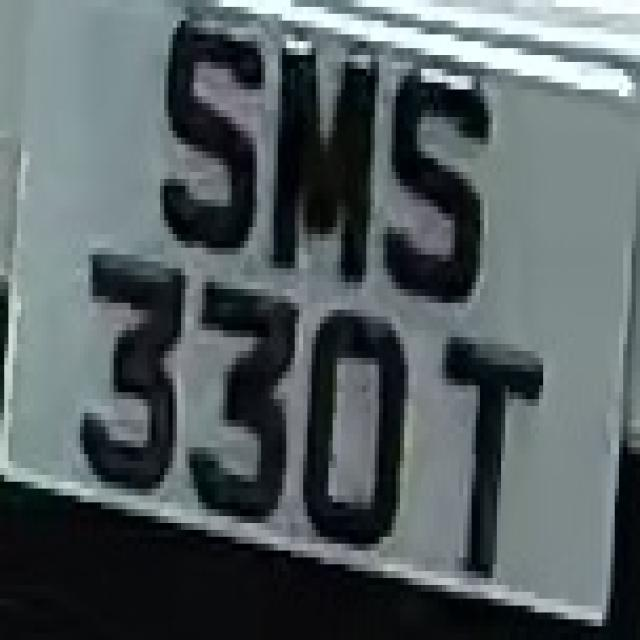0: (290, 262, 417, 558)
3: (198, 241, 307, 550), (84, 200, 190, 502)
M: (261, 14, 375, 296)
S: (148, 21, 270, 282), (383, 35, 489, 316)
T: (429, 296, 552, 612)
